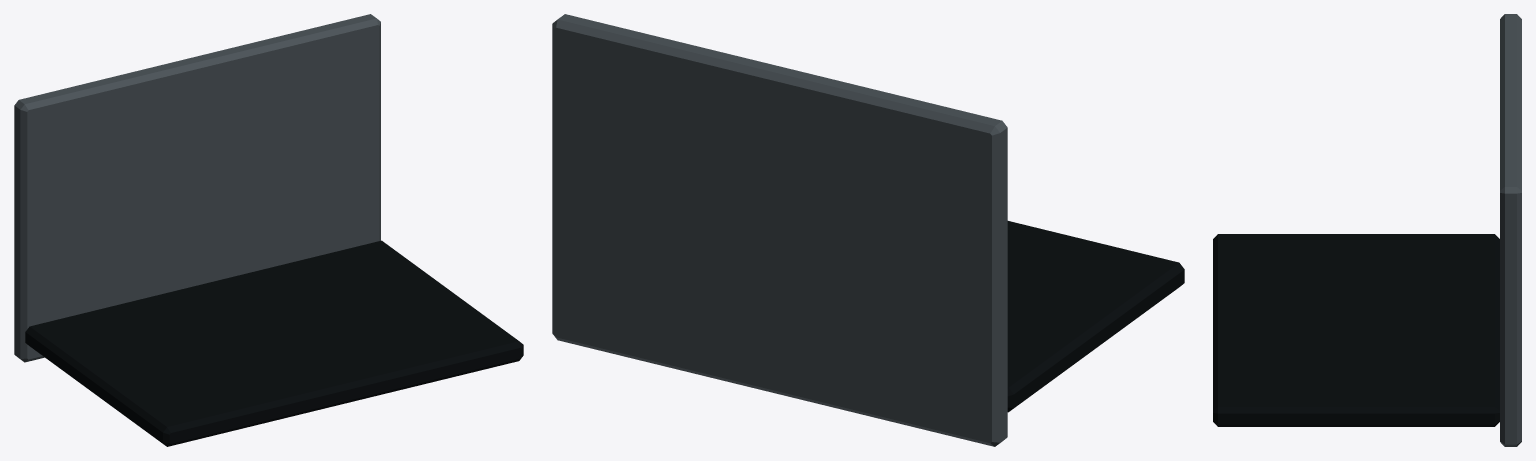
Rendered from desk_laptop_4.obj.
3 renders of one model, left to right at view 1: azimuth 30°, elevation 25°; view 2: azimuth 150°, elevation 25°; view 3: azimuth 270°, elevation 25°, orthographic. The views are drawn at different scales.
Parts seen in each view (by area): view 1: desk_laptop_4_metal, desk_laptop_4_screen; view 2: desk_laptop_4_metal, desk_laptop_4_screen; view 3: desk_laptop_4_screen, desk_laptop_4_metal.
Boxes of the visible parts, x1,y1,x2,y2 form: desk_laptop_4_metal: (14,14,380,362); desk_laptop_4_screen: (25,240,523,446); desk_laptop_4_metal: (552,14,1007,446); desk_laptop_4_screen: (1007,221,1184,412); desk_laptop_4_screen: (1213,234,1499,426); desk_laptop_4_metal: (1500,14,1521,446).
Bounding box in the file's own units: 19 × 13 × 14.
Materials: 2 (2 with a texture image).
